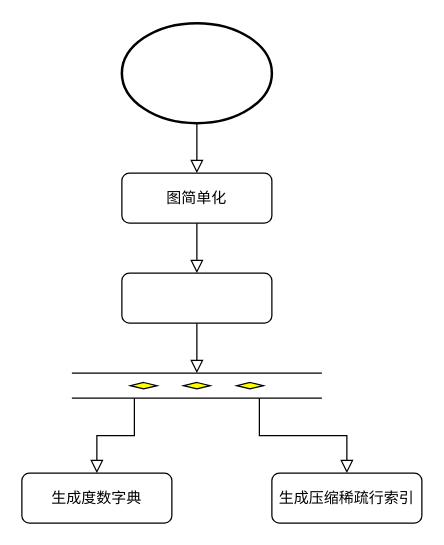
Some shapes in this 444 by 545 pixel diagram are drawn without their labels. The shapes that lost their labels are listed below. From the top down, each one's centre as x and y in pixels, then its label:
At point 196,72: "预处理开始".
At point 196,297: "度数重排序".
